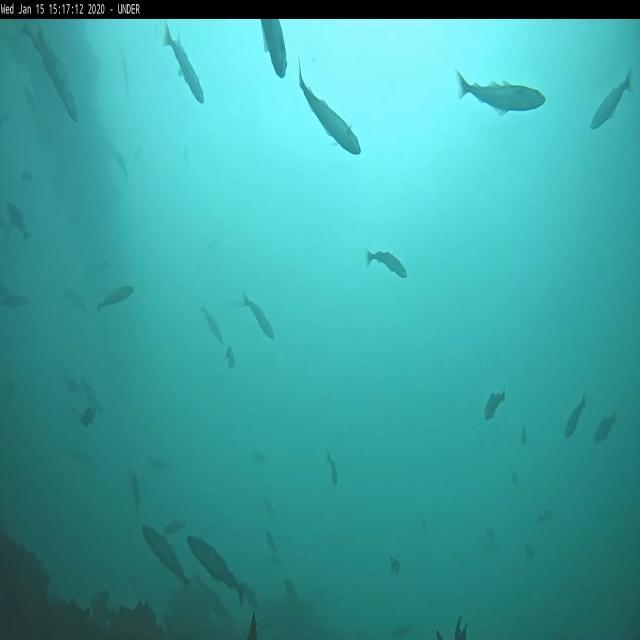fish: (296, 62, 362, 158), (188, 533, 245, 607), (457, 73, 545, 113), (38, 32, 78, 118), (165, 24, 207, 104), (594, 67, 634, 131), (145, 524, 188, 582), (260, 20, 286, 78), (365, 248, 408, 281), (244, 291, 274, 335), (8, 204, 32, 244), (564, 396, 586, 437), (98, 286, 134, 311), (80, 378, 104, 414), (108, 146, 130, 182), (202, 308, 222, 342), (484, 387, 504, 420), (594, 416, 616, 440), (131, 474, 143, 514), (328, 448, 338, 487), (1, 296, 28, 310), (148, 456, 170, 473), (80, 408, 98, 428), (226, 348, 236, 373), (390, 558, 402, 574), (540, 510, 554, 523), (68, 378, 78, 392)
